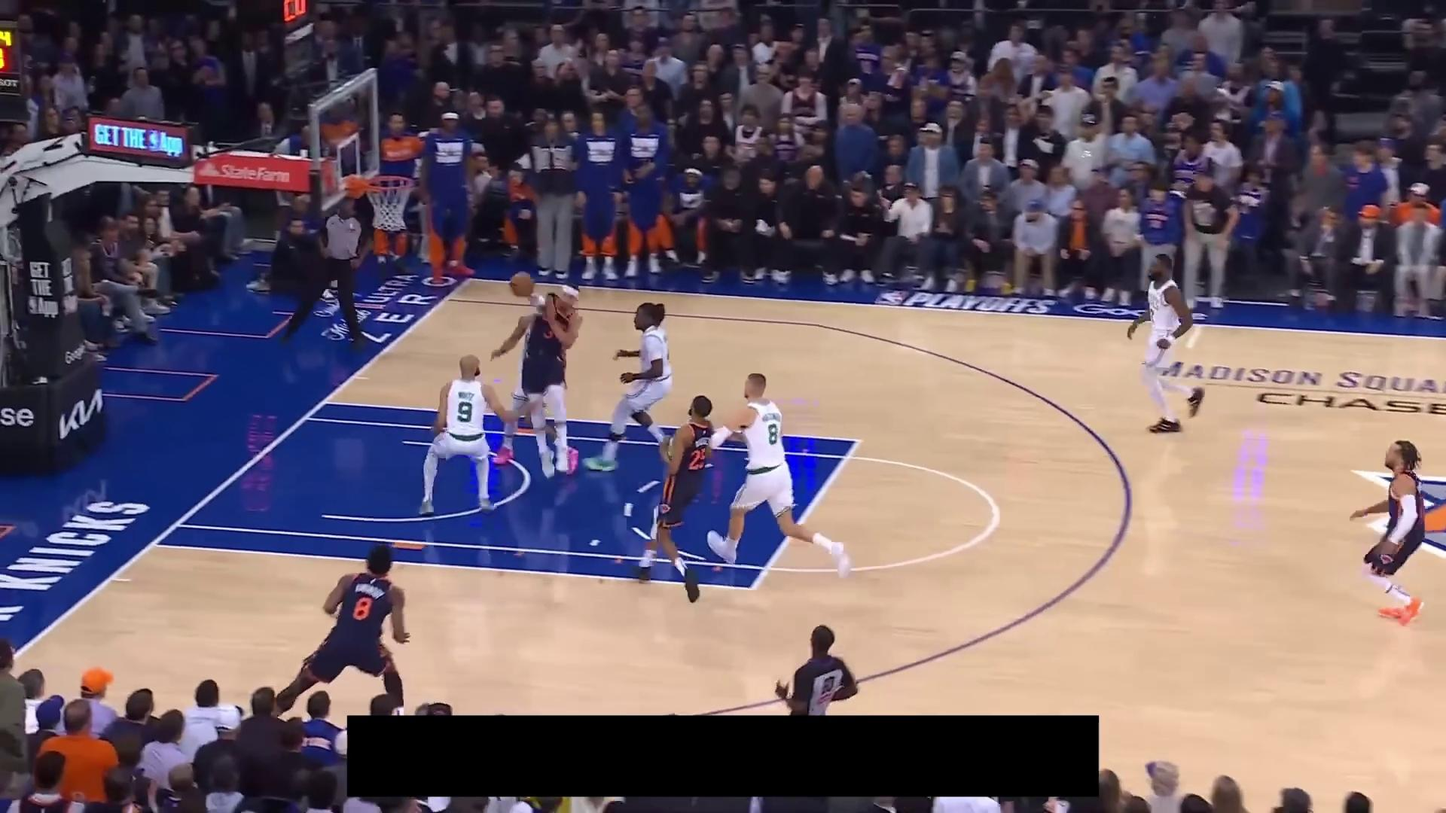ball: (510, 271, 536, 296)
number: (351, 597, 376, 621), (457, 400, 473, 423), (766, 423, 779, 446)
player: (706, 371, 851, 579), (270, 544, 409, 713), (416, 351, 544, 517), (634, 393, 722, 602), (1349, 436, 1444, 628), (1123, 252, 1211, 437), (581, 298, 674, 473), (487, 308, 581, 475)
player-in-possession: (510, 268, 587, 481)
referee: (279, 192, 380, 350), (773, 623, 858, 717)
rim: (361, 173, 414, 193)
